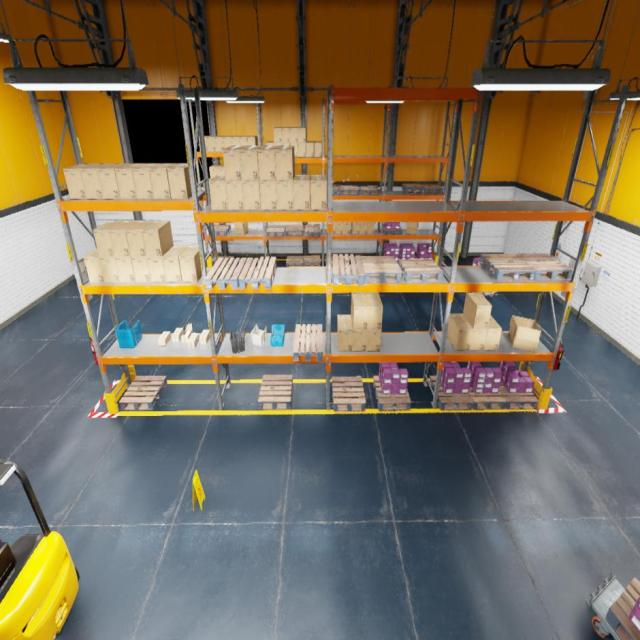box: (80, 164, 114, 200), (63, 164, 97, 200), (508, 315, 541, 352), (98, 163, 130, 199), (93, 220, 125, 256), (142, 221, 174, 256), (115, 163, 146, 199), (109, 220, 140, 256), (168, 163, 198, 199), (463, 292, 492, 328), (132, 163, 161, 199), (126, 221, 155, 256), (150, 163, 178, 199), (448, 314, 473, 351), (163, 245, 188, 282), (463, 314, 487, 350), (179, 246, 202, 282), (222, 146, 245, 180), (240, 146, 262, 180), (83, 248, 105, 282), (257, 146, 278, 180), (483, 315, 502, 351), (275, 146, 295, 180), (209, 175, 228, 210), (365, 293, 383, 329), (351, 293, 368, 329), (337, 314, 353, 352), (310, 175, 327, 210), (293, 175, 310, 210), (242, 181, 261, 210), (226, 180, 244, 210), (115, 257, 136, 282), (99, 257, 120, 282), (276, 181, 294, 210), (147, 257, 167, 282), (131, 257, 151, 282), (260, 181, 277, 210), (366, 330, 382, 350), (353, 330, 367, 350), (181, 323, 193, 342), (158, 331, 171, 346), (187, 332, 199, 348), (171, 328, 184, 342), (234, 222, 248, 235), (209, 165, 221, 179), (406, 222, 418, 235), (215, 136, 225, 151), (200, 330, 210, 344), (207, 136, 216, 151), (199, 136, 208, 151), (306, 141, 314, 157), (298, 127, 306, 142), (290, 127, 298, 142), (282, 127, 290, 142), (274, 127, 282, 142), (315, 141, 322, 157), (290, 143, 298, 157), (298, 143, 306, 157), (351, 222, 360, 234), (223, 136, 232, 148), (248, 136, 258, 146), (230, 136, 240, 146), (360, 222, 368, 234), (342, 222, 350, 234), (239, 136, 248, 146), (367, 222, 374, 234), (203, 178, 210, 190), (336, 222, 342, 234), (217, 165, 225, 174), (332, 222, 336, 234), (266, 141, 274, 145)
forklift: (0, 460, 80, 639)
pallets: (605, 578, 640, 639), (119, 376, 168, 410), (479, 254, 536, 281), (515, 254, 573, 280), (430, 376, 473, 410), (373, 376, 411, 411), (205, 258, 246, 290), (238, 257, 276, 289), (258, 375, 293, 409), (332, 377, 366, 411), (361, 256, 402, 284), (499, 381, 539, 409), (293, 324, 323, 361), (399, 259, 443, 283), (333, 254, 364, 285), (469, 386, 507, 410), (208, 224, 231, 236), (213, 255, 234, 267), (402, 184, 425, 194), (285, 224, 304, 236), (266, 226, 285, 237), (383, 224, 402, 235), (420, 184, 443, 193), (340, 186, 359, 196), (286, 256, 304, 266), (359, 187, 379, 196), (306, 224, 320, 236), (304, 256, 320, 266), (325, 256, 340, 266), (382, 256, 398, 264), (332, 186, 340, 196), (398, 256, 401, 260), (415, 255, 417, 259)
